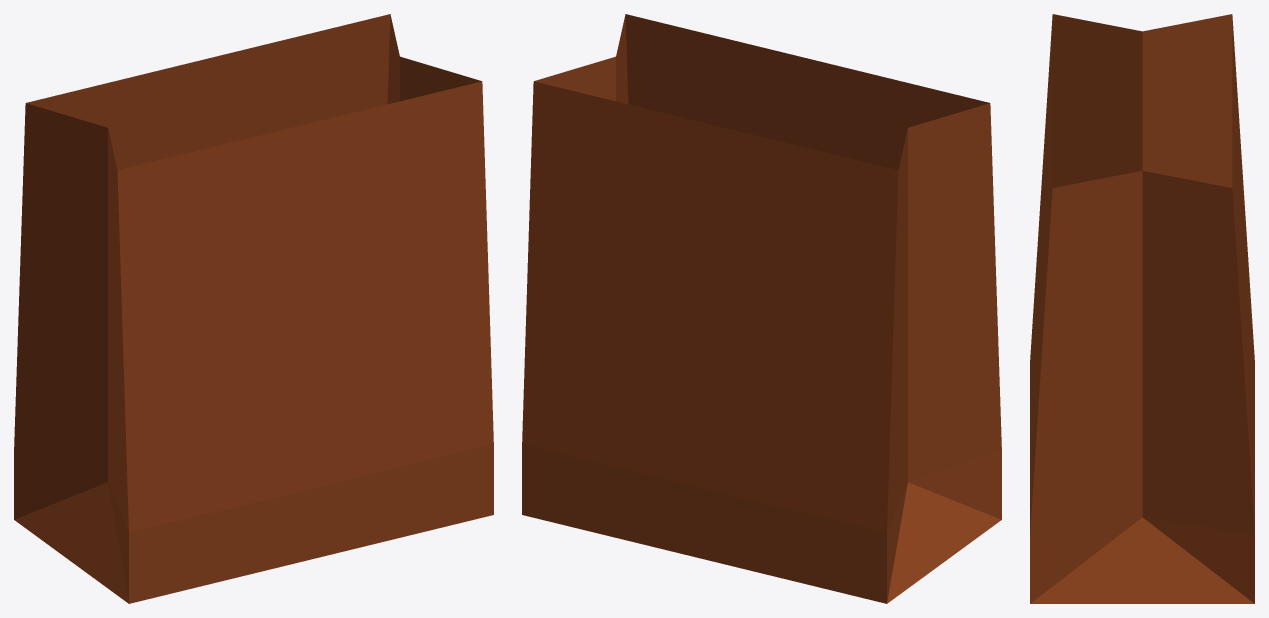
File: Bolsa Papel.fbx
3 views of the same model, side by side, from view 1: azimuth 30°, elevation 25°; view 2: azimuth 150°, elevation 25°; view 3: azimuth 270°, elevation 25° (orthographic). The views are drawn at different scales.
Visible parts, largest first — view 1: Bolsa Papel; view 2: Bolsa Papel; view 3: Bolsa Papel.
Boxes of the visible parts, box(x1,y1,x2,y2) form: Bolsa Papel: box(14, 14, 493, 603); Bolsa Papel: box(522, 14, 1001, 603); Bolsa Papel: box(1030, 14, 1254, 603).
Size of the model in its own units: 22 by 24.5 by 12.
